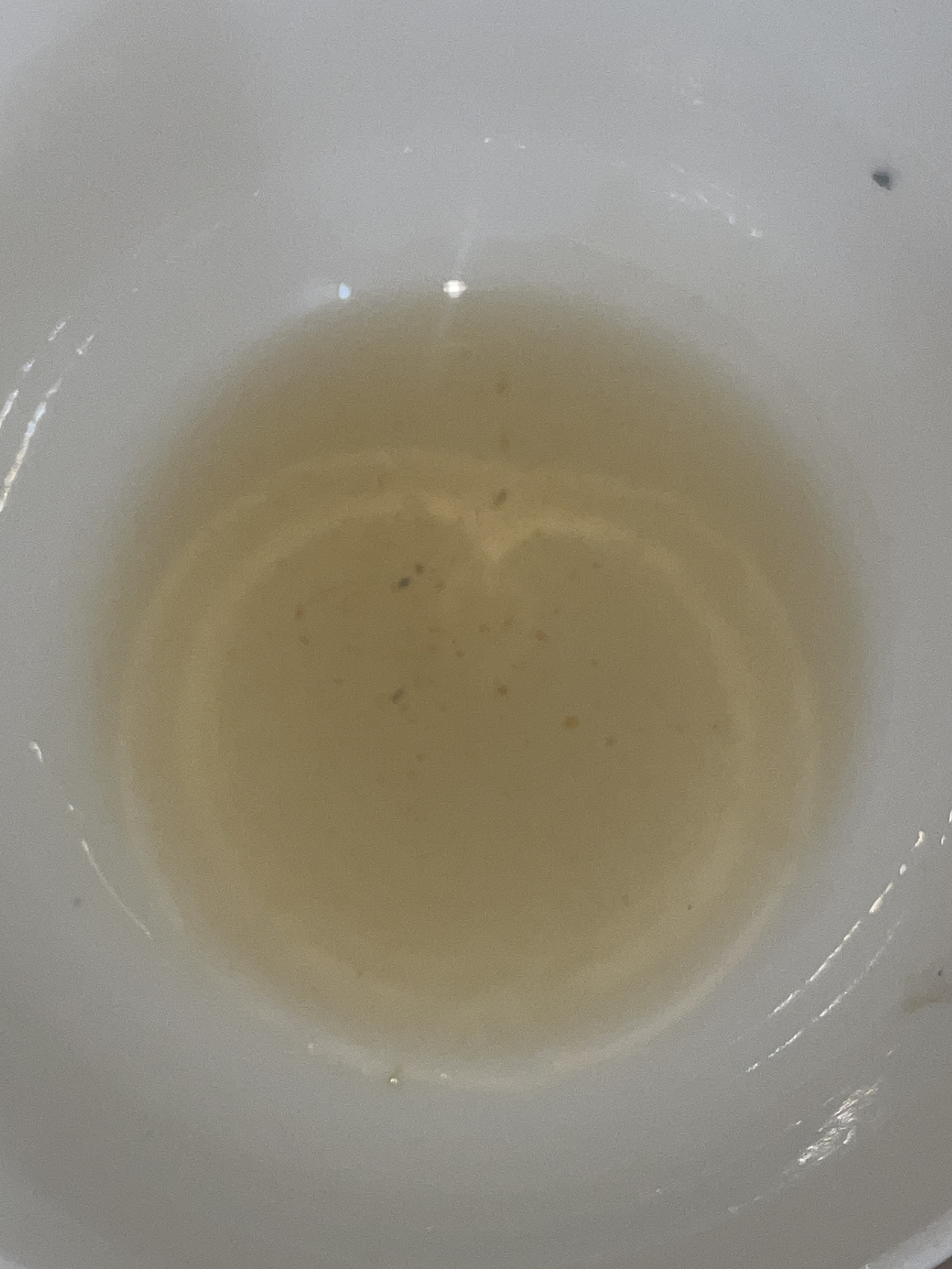reusable: (0, 283, 952, 1073)
